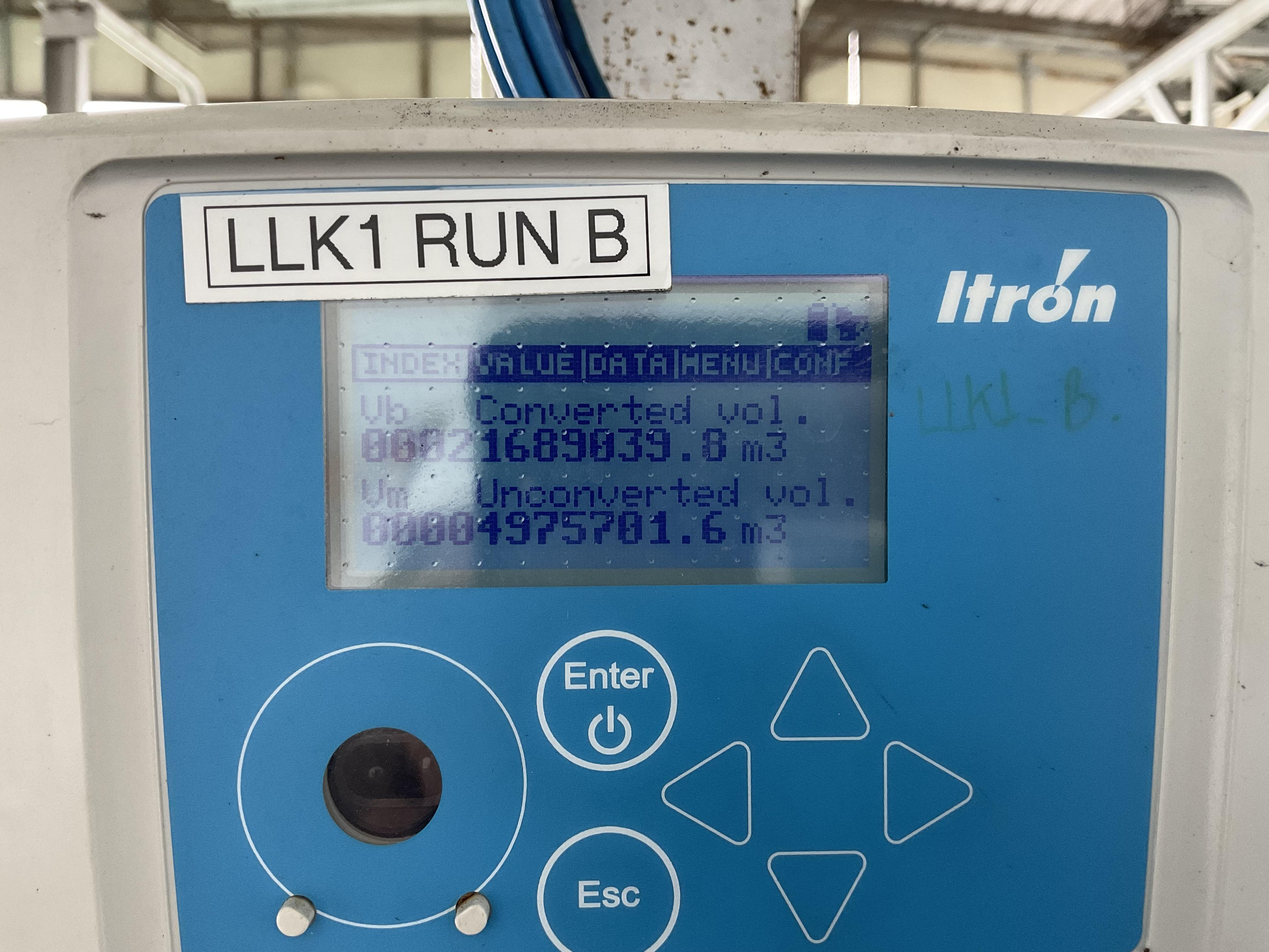digital_screen: (320, 277, 888, 590)
